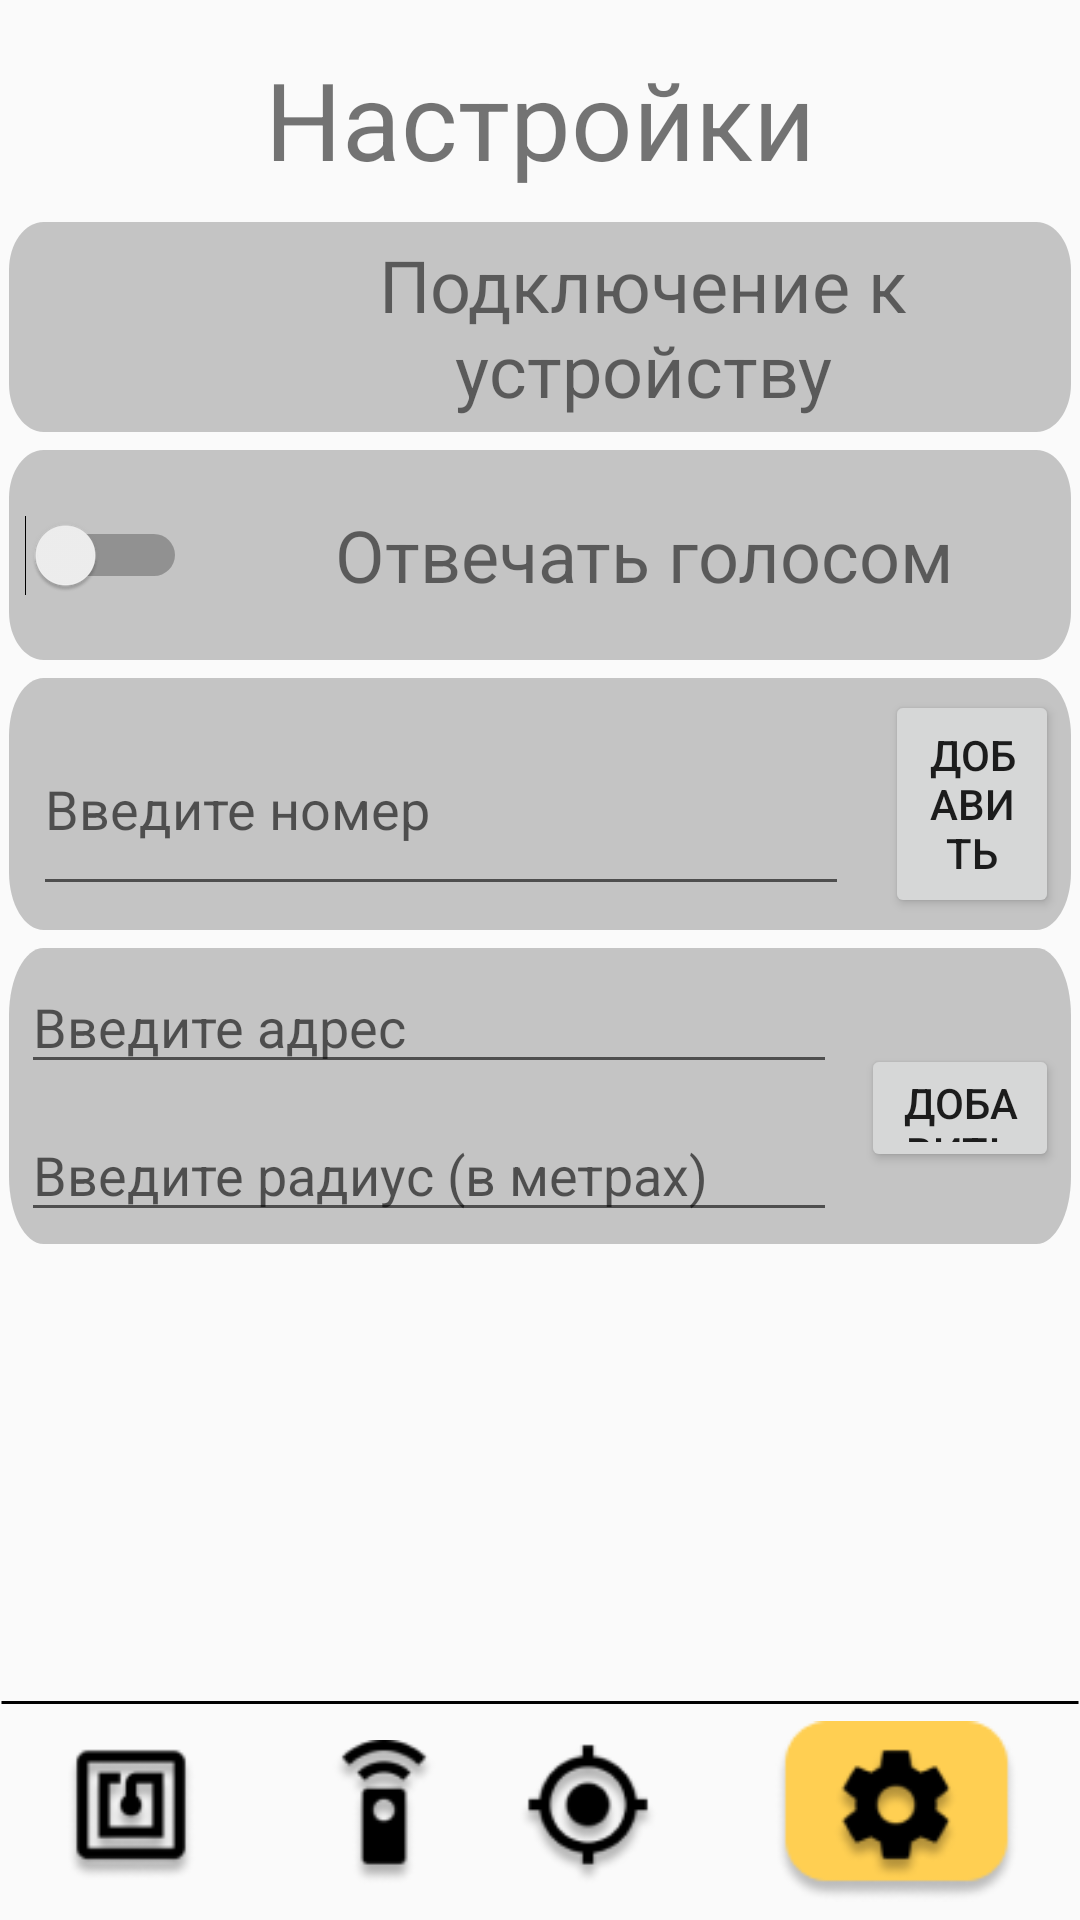

Icon click points for this 1080×1920 phone screenshot, format (x=x, y=y):
setting sh: (x=895, y=1810)
